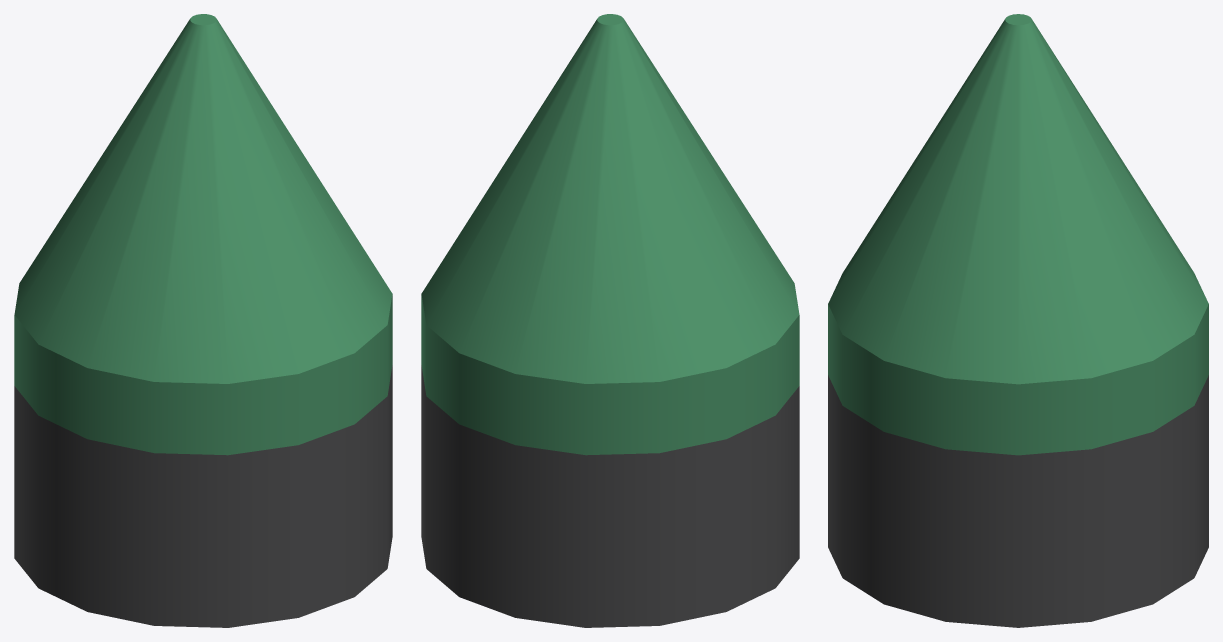
The model's file is buoy-conical-green.glb.
The picture shows the model from 3 angles, left to right: view 1: azimuth 30°, elevation 25°; view 2: azimuth 150°, elevation 25°; view 3: azimuth 270°, elevation 25°; orthographic projection.
Parts seen in each view (by area): view 1: buoy-conical-green; view 2: buoy-conical-green; view 3: buoy-conical-green.
Part boxes in pixels (box(x1,y1,x2,y2)): buoy-conical-green: box(14, 14, 392, 627); buoy-conical-green: box(421, 14, 799, 627); buoy-conical-green: box(828, 14, 1208, 627).
Bounding box in the file's own units: 1.7 × 2.6 × 1.7.
